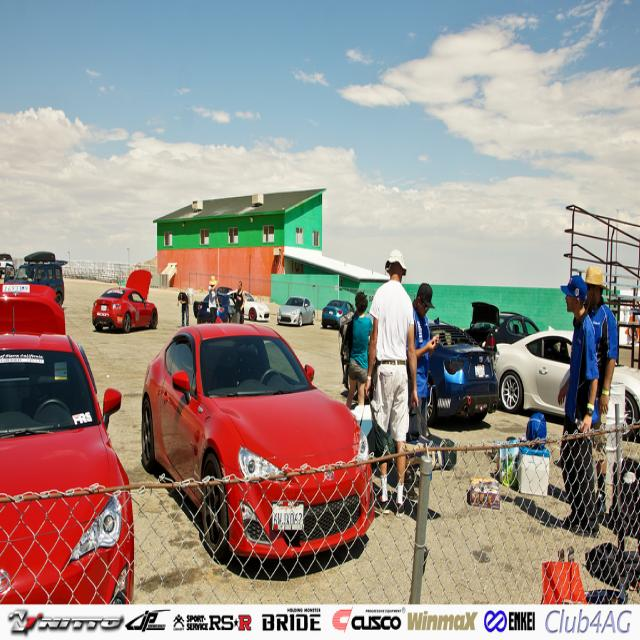car: (278, 296, 313, 324)
